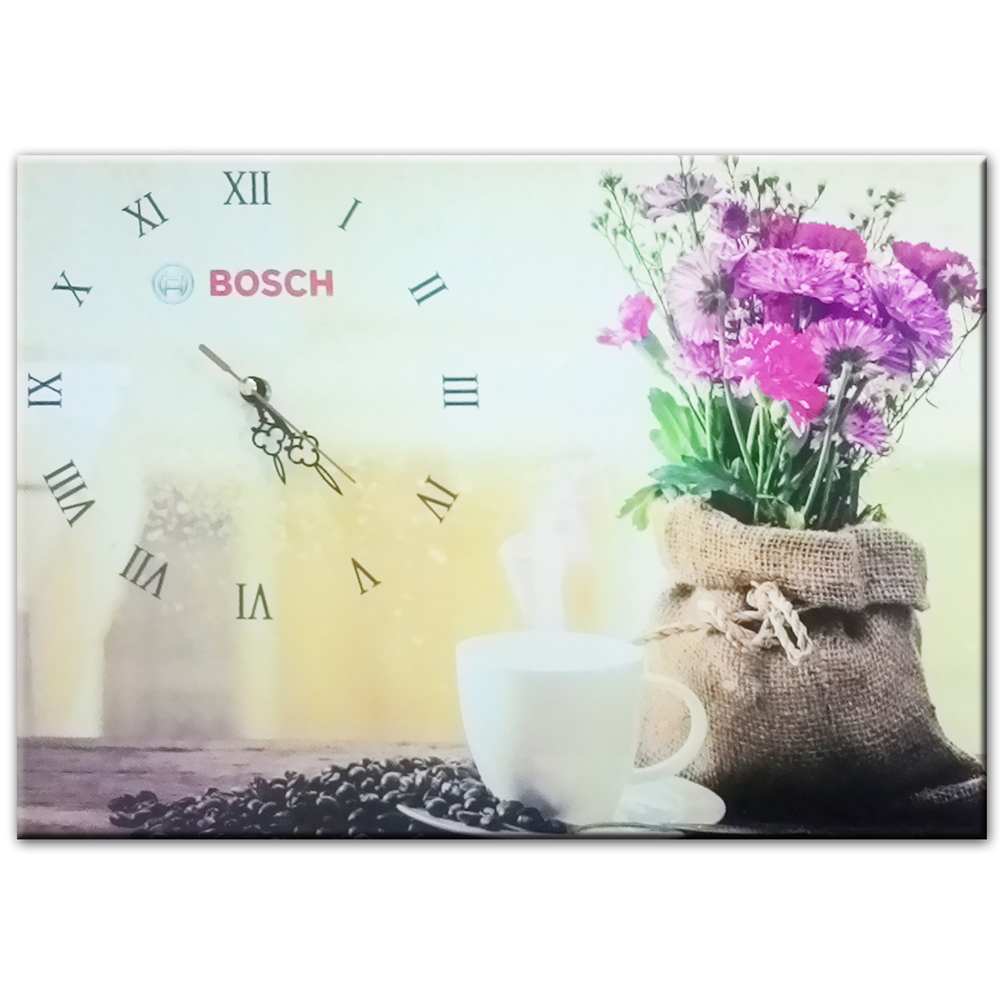Bosch: (207, 265, 339, 303)
